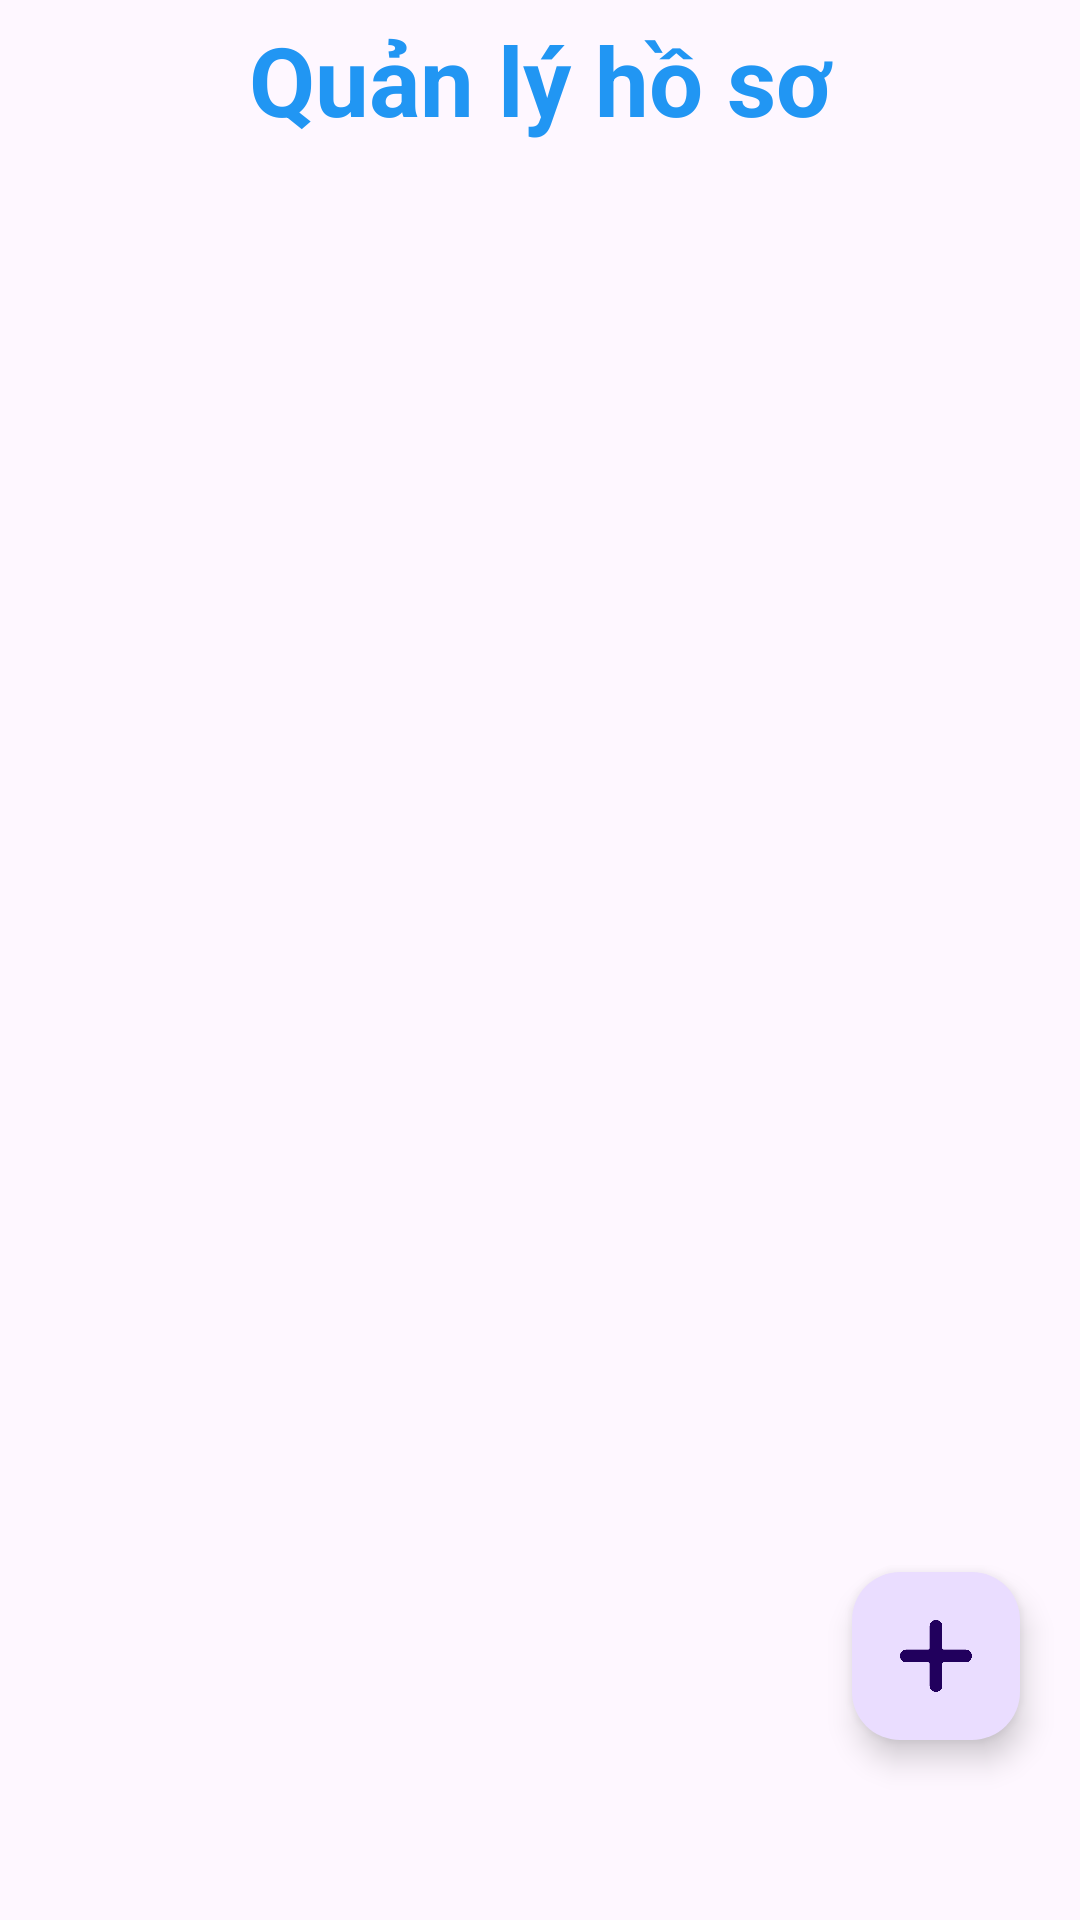

Named icons in this screenshot (1080px×1920px) and their centers, (x=x, y=y):
add: (x=936, y=1656)
